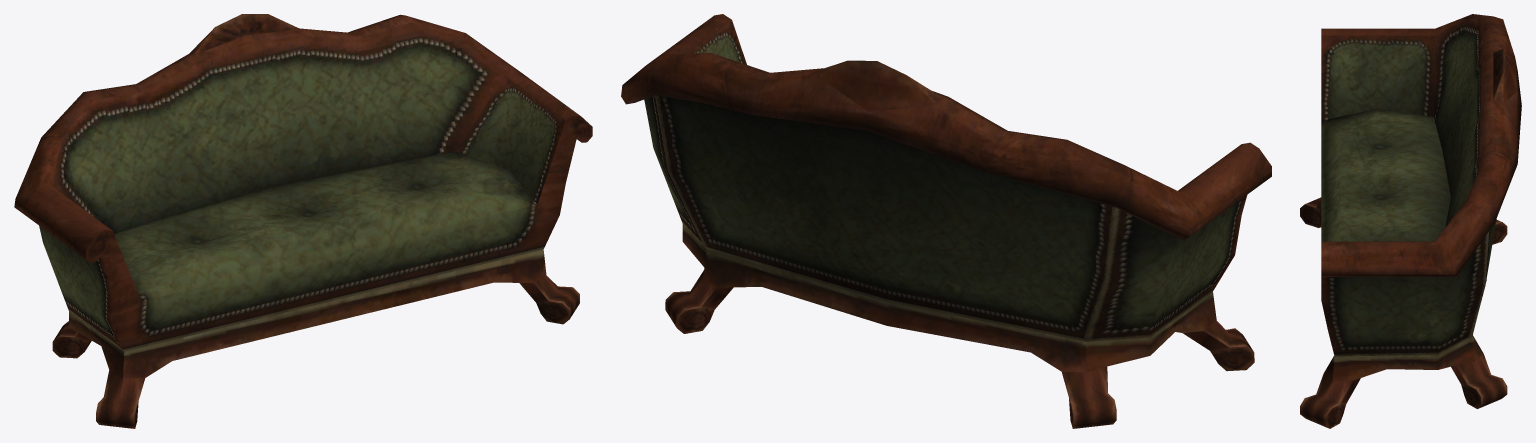
The model's file is sofa.dae.
The picture shows the model from 3 angles, left to right: view 1: azimuth 30°, elevation 25°; view 2: azimuth 150°, elevation 25°; view 3: azimuth 270°, elevation 25°; orthographic projection. The views are drawn at different scales.
Parts seen in each view (by area): view 1: polySurface2; view 2: polySurface2; view 3: polySurface2.
Part boxes in pixels (bbox=[...]): polySurface2: bbox=[14, 14, 592, 428]; polySurface2: bbox=[621, 14, 1271, 428]; polySurface2: bbox=[1300, 14, 1521, 428].
Bounding box in the file's own units: 2.4 × 1.29 × 0.9764.
